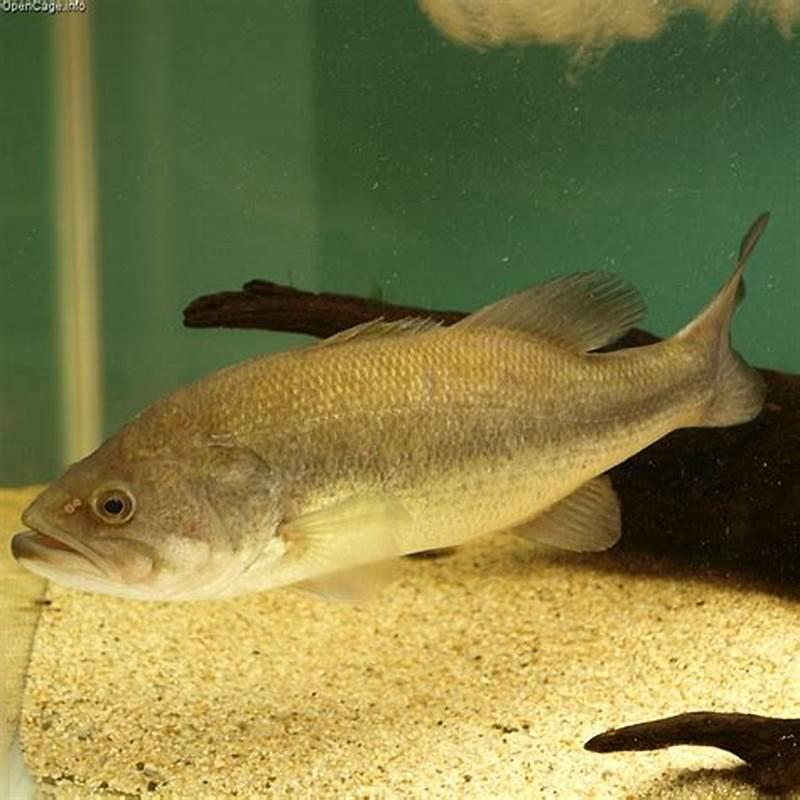Silver Perch: (17, 208, 772, 602)
